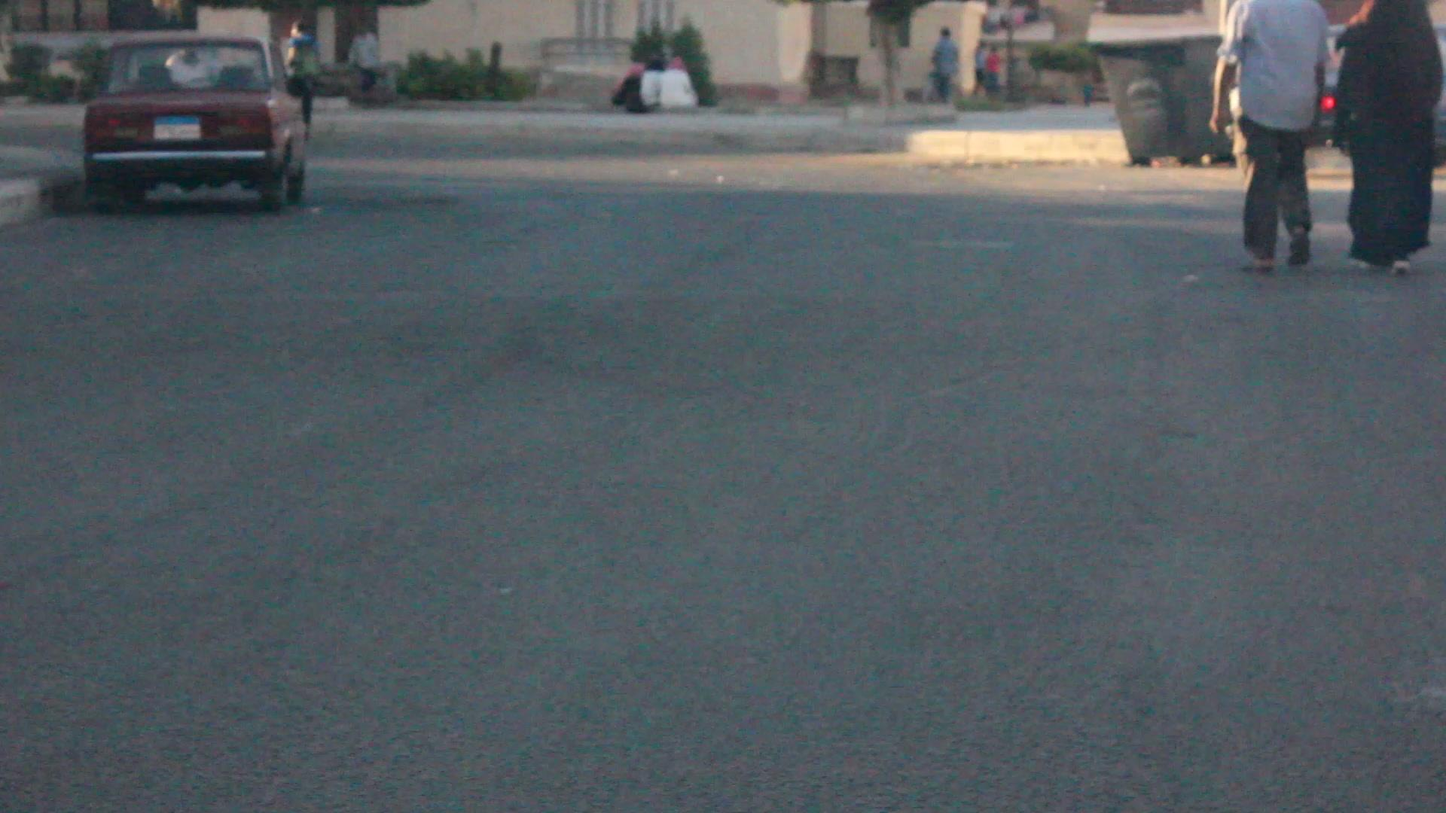Bump: (0, 262, 1446, 373)
